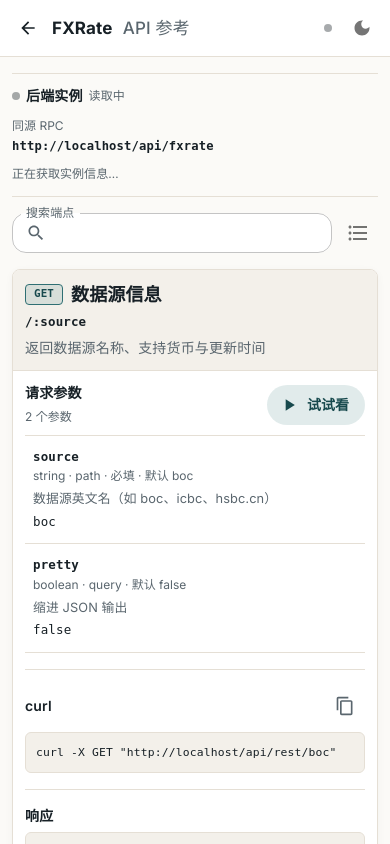
Test: APIDocs › mobile navigation stays collapsed until the browse control opens it
This screenshot has width=390, height=844.
Expected: the link "getFXRate" is not shown
What coordinates should you click on to do the following:
click the button named "浏览端点"
I would click on:
 (358, 233)
Its box is [338,213,378,253].
(page scrolled)
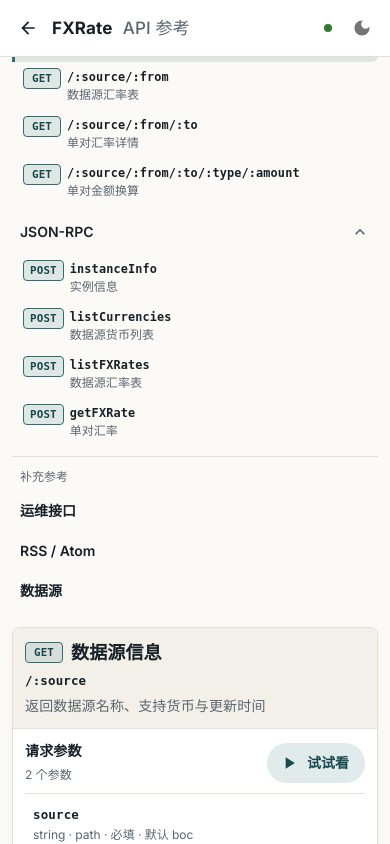
Now the link "POST getFXRate 单对汇率" is shown, box [23,404,135,438]
